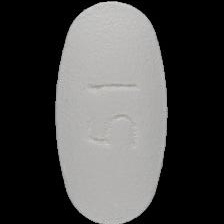0093-0051: (0, 0, 224, 224)
